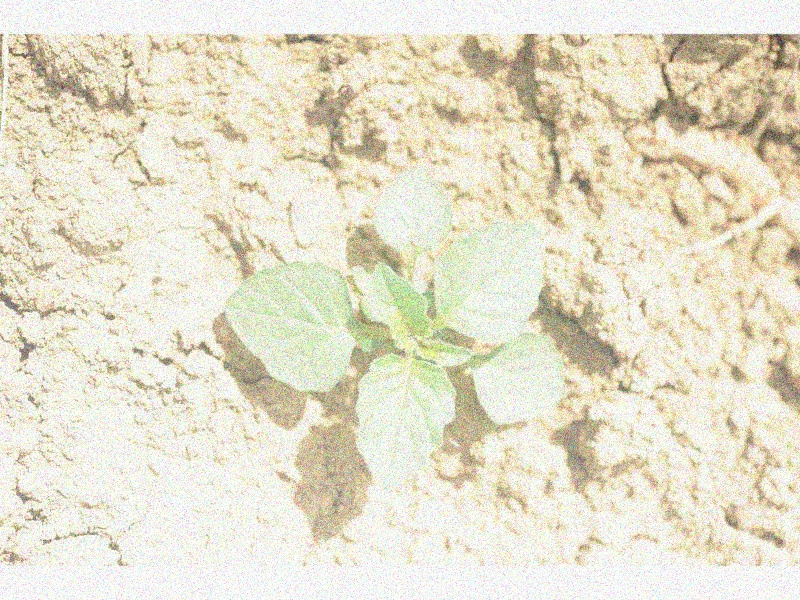nightshade: (227, 166, 566, 490)
